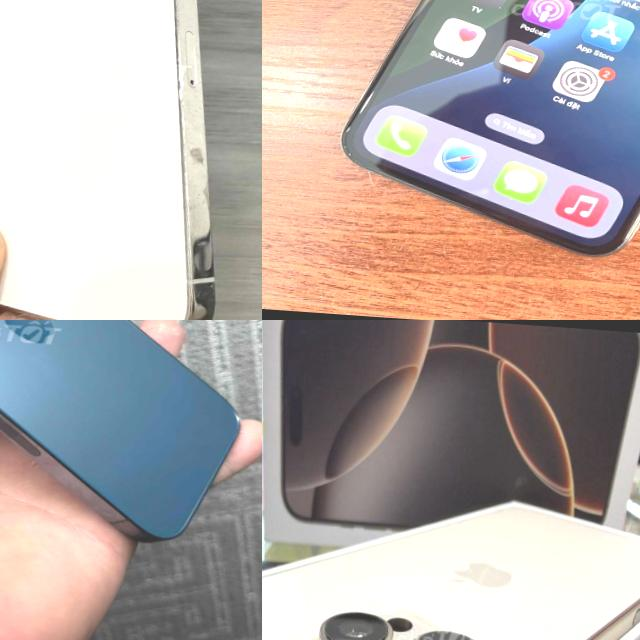scratch: (336, 142, 359, 160)
